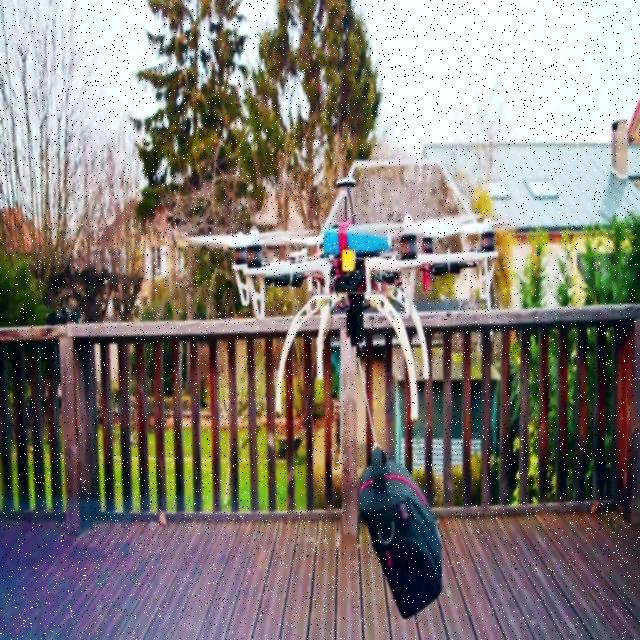UAV: (186, 178, 510, 421)
